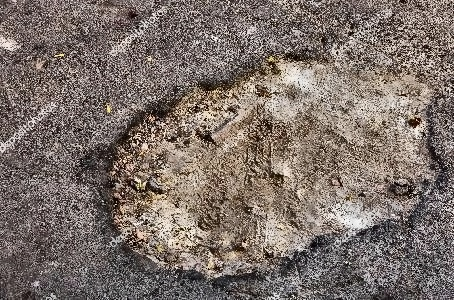pothole: (73, 41, 453, 281)
